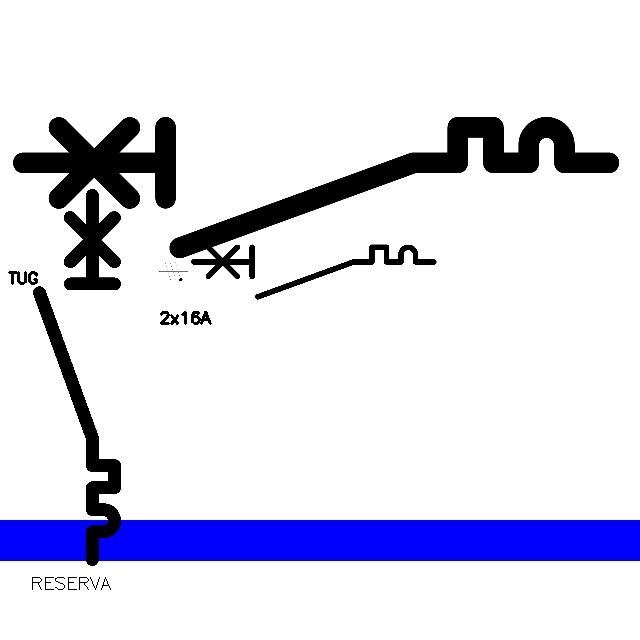interruptor_termomagnetico: (8, 112, 624, 263), (30, 186, 124, 569), (187, 241, 439, 302)
